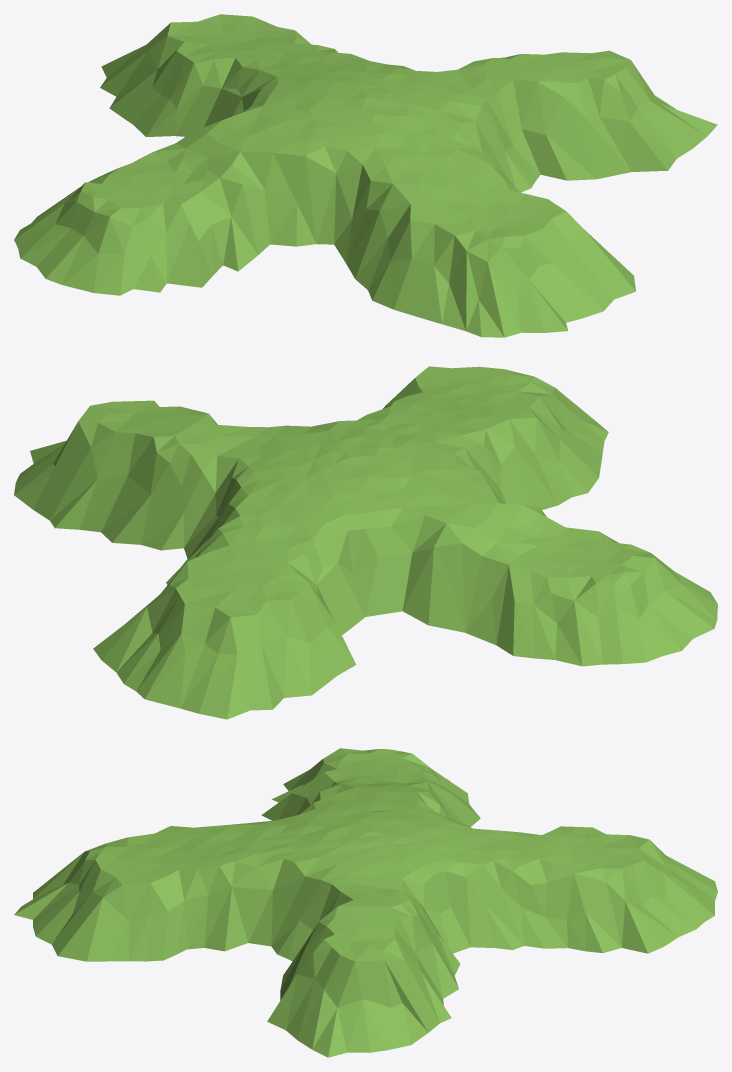
Rendered from MT_Island_L_b_14_LOD.fbx.
3 renders of one model, top to bottom at view 1: azimuth 30°, elevation 25°; view 2: azimuth 150°, elevation 25°; view 3: azimuth 270°, elevation 25°, orthographic. The views are drawn at different scales.
Visible parts, largest first — view 1: MT_Island_L_b_14_LOD0; view 2: MT_Island_L_b_14_LOD0; view 3: MT_Island_L_b_14_LOD0.
Part boxes in pixels (x1=…): MT_Island_L_b_14_LOD0: x1=14, y1=14, x2=717, y2=337; MT_Island_L_b_14_LOD0: x1=14, y1=366, x2=717, y2=719; MT_Island_L_b_14_LOD0: x1=14, y1=748, x2=717, y2=1057.
Size of what is drawn, in the model's own units: 10015 by 1331 by 10226.
